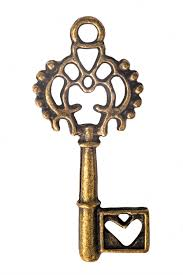key: (27, 15, 153, 264)
